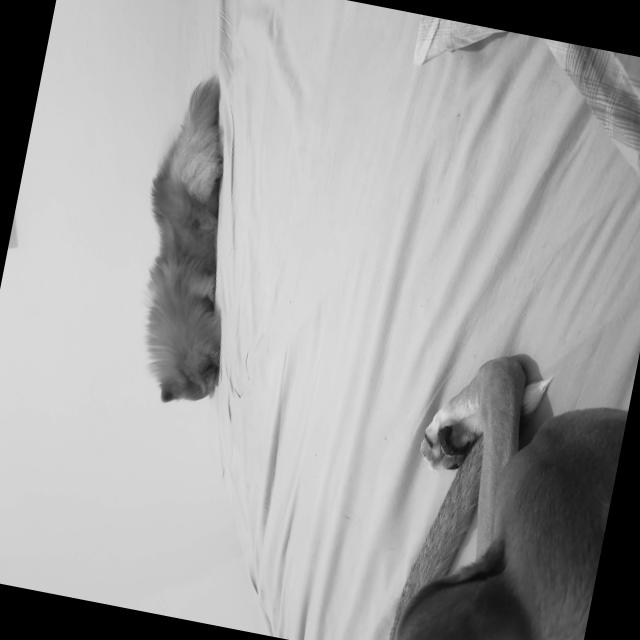laying down: (108, 68, 280, 418)
